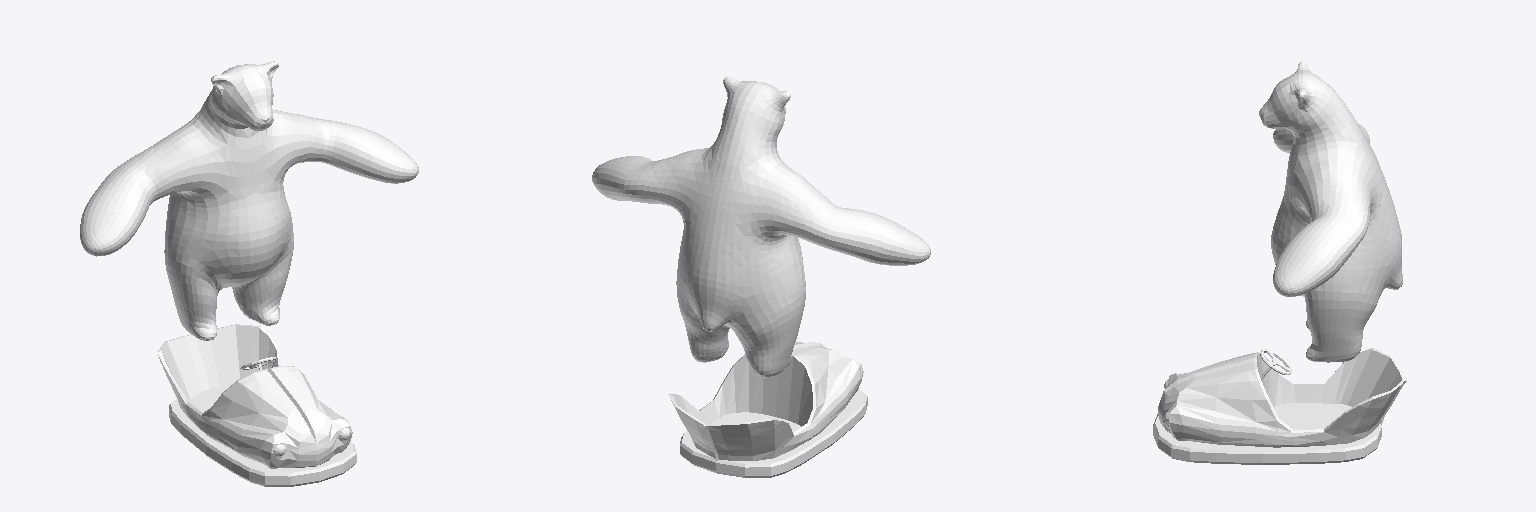
File: Bears.obj
The picture shows the model from 3 angles: view 1: azimuth 30°, elevation 25°; view 2: azimuth 150°, elevation 25°; view 3: azimuth 270°, elevation 25°; orthographic projection.
Visible parts, largest first — view 1: default; view 2: default; view 3: default.
Part boxes in pixels (x1,y1,x2,y2): default: (80, 61, 418, 486); default: (592, 77, 930, 477); default: (1153, 62, 1406, 464).
Bounding box in the file's own units: 25.54 × 26.62 × 16.93.